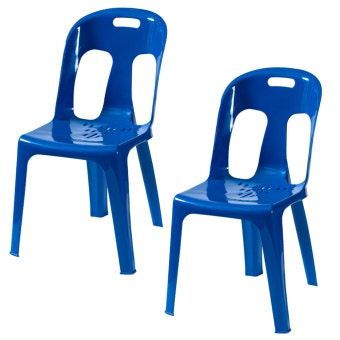plastic: (165, 66, 321, 331)
